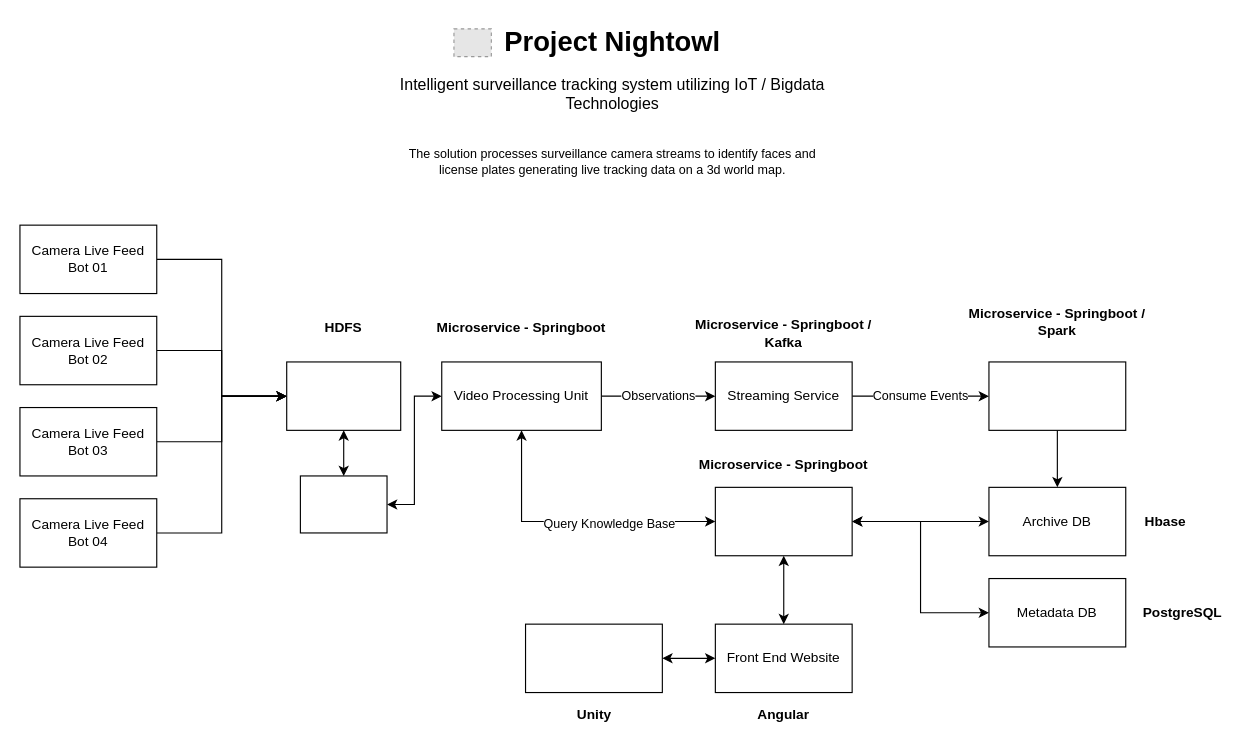
This 1241x746 diagram has some shape labels left out. Grey dashed boxes stand in for pictures. Each missing label, with the centre of its shape:
"Data Processor" goes at (x=1057, y=395).
"Rest API" goes at (x=783, y=521).
"Storage" goes at (x=343, y=395).
"Temporary Cache" goes at (x=343, y=504).
"Visualization Service" goes at (x=593, y=658).
